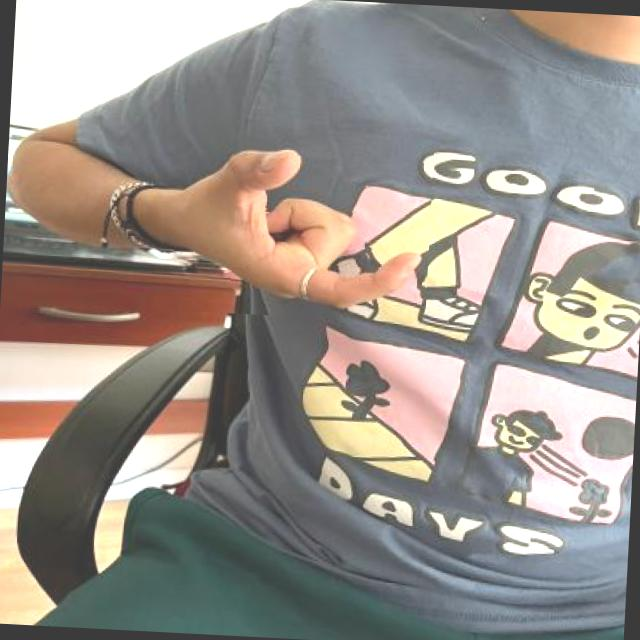G: (156, 134, 434, 324)
